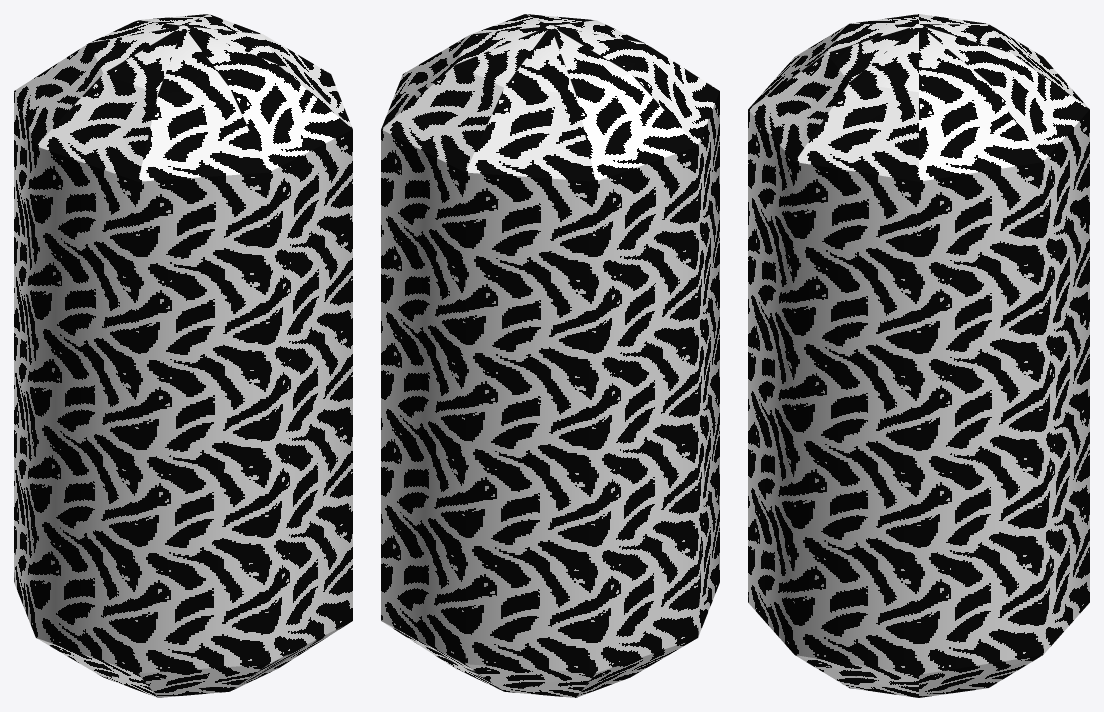
File: ShieldBox.FBX
3 views of the same model, side by side, from view 1: azimuth 30°, elevation 25°; view 2: azimuth 150°, elevation 25°; view 3: azimuth 270°, elevation 25° (orthographic).
Visible parts, largest first — view 1: ShieldBox; view 2: ShieldBox; view 3: ShieldBox.
Part boxes in pixels (<box>): ShieldBox: <box>14,14,352,697</box>; ShieldBox: <box>381,14,719,697</box>; ShieldBox: <box>748,14,1089,697</box>.
Size of the model in its own units: 22 by 22 by 47.
Materials: 1 (1 with a texture image).
